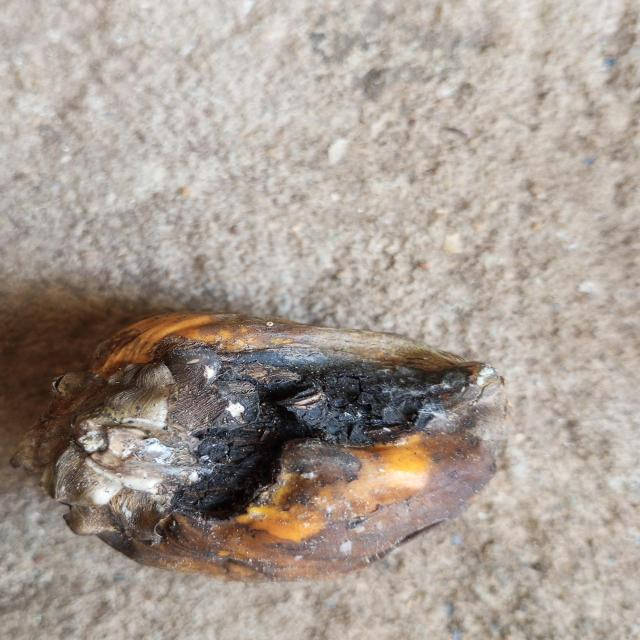damaged: (30, 313, 497, 585)
